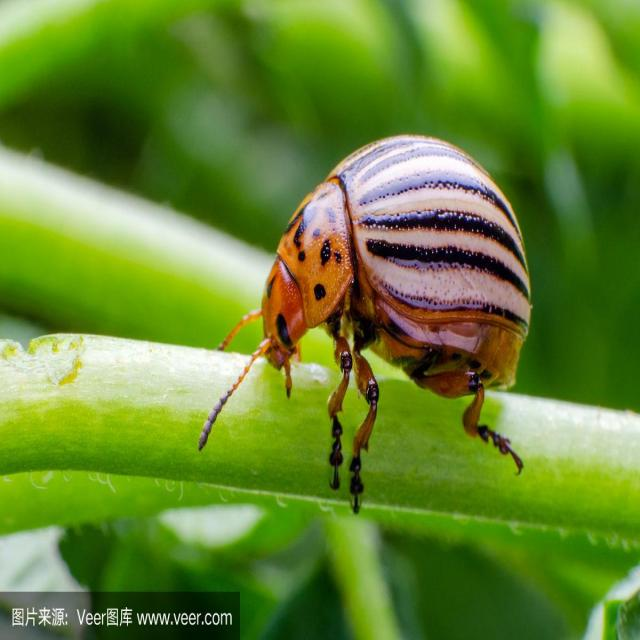ShuCaiHuaBanChong-Grown-: (255, 129, 531, 458)
